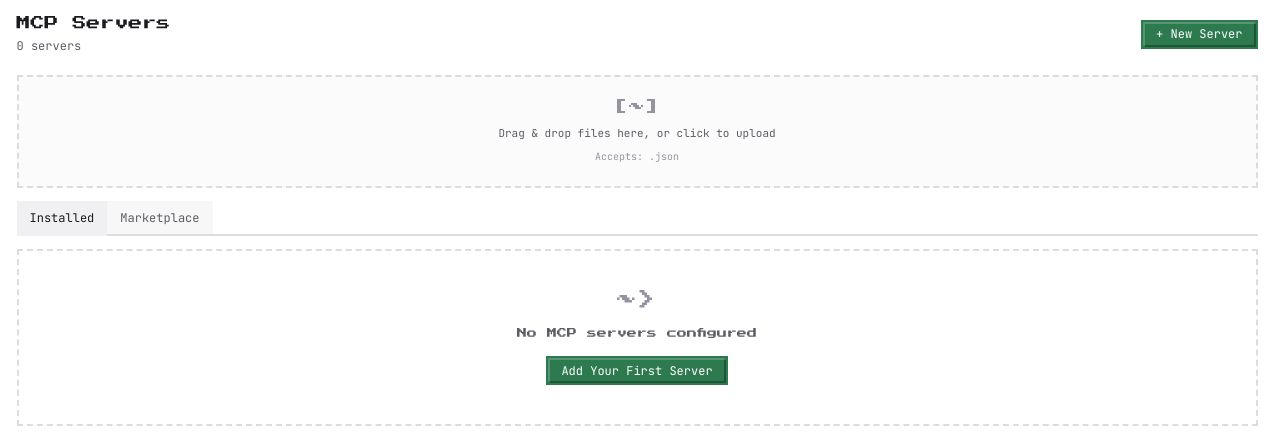
Test: MCPServersPage › shows "Coming Soon" for marketplace tab
Click the button "Marketplace" at (160, 218), box [107,201,212,236]
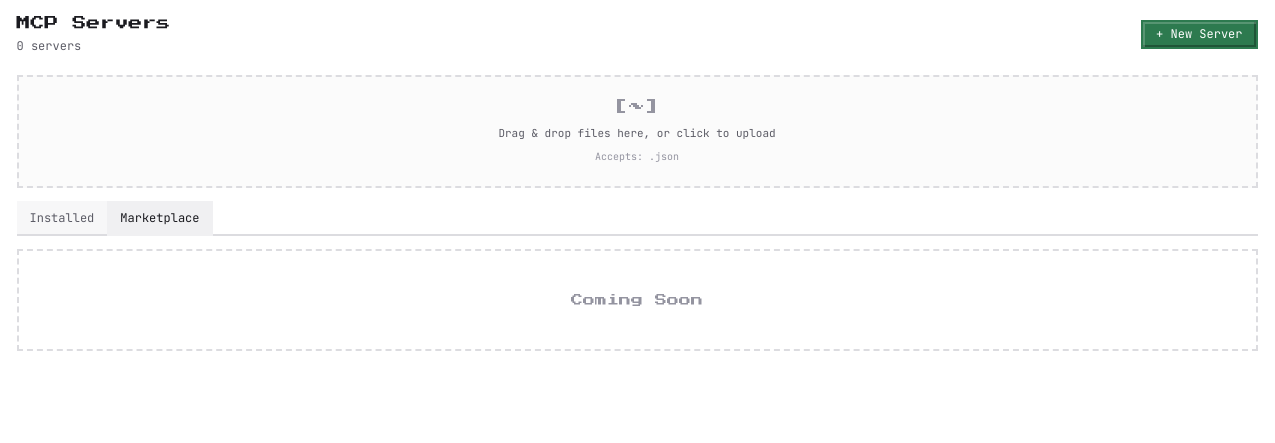
Now the text "Coming Soon" is shown, box [571,294,703,306]
